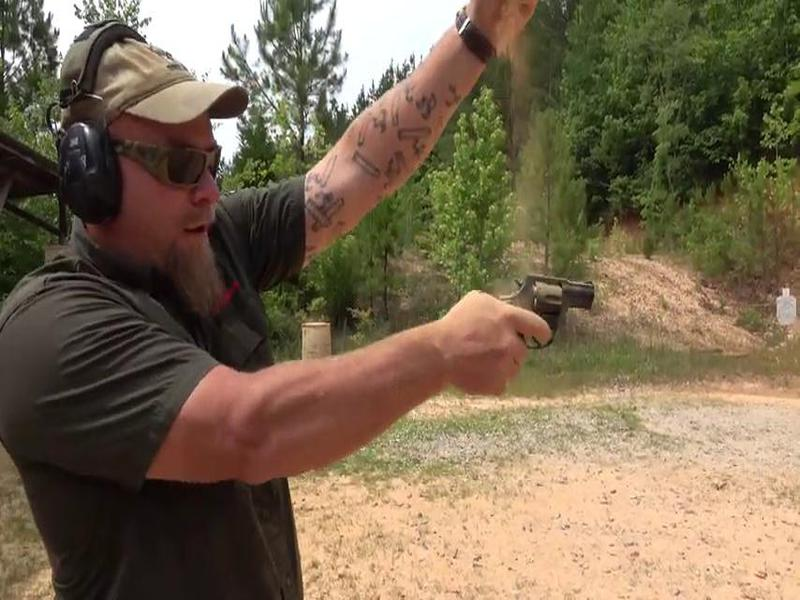Revolver: (467, 245, 615, 383)
